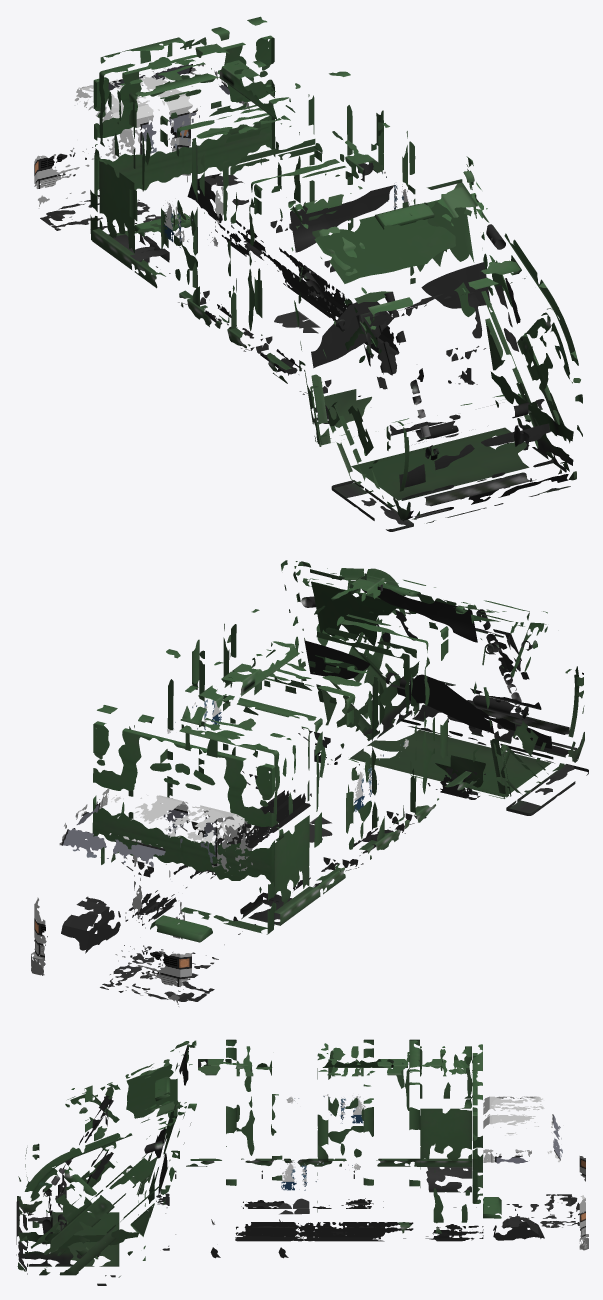
File: Vehicle_GarbageTruck.FBX
3 renders of one model, top to bottom at view 1: azimuth 30°, elevation 25°; view 2: azimuth 150°, elevation 25°; view 3: azimuth 270°, elevation 25°, orthographic. The views are drawn at different scales.
Parts seen in each view (by area): view 1: IsuzuBox; view 2: IsuzuBox; view 3: IsuzuBox.
Boxes of the visible parts, left/top/right/bottom form: IsuzuBox: left=34, top=16, right=582, bottom=531; IsuzuBox: left=31, top=560, right=588, bottom=1006; IsuzuBox: left=16, top=1039, right=588, bottom=1285.
Bounding box in the file's own units: 254 × 311 × 860.
